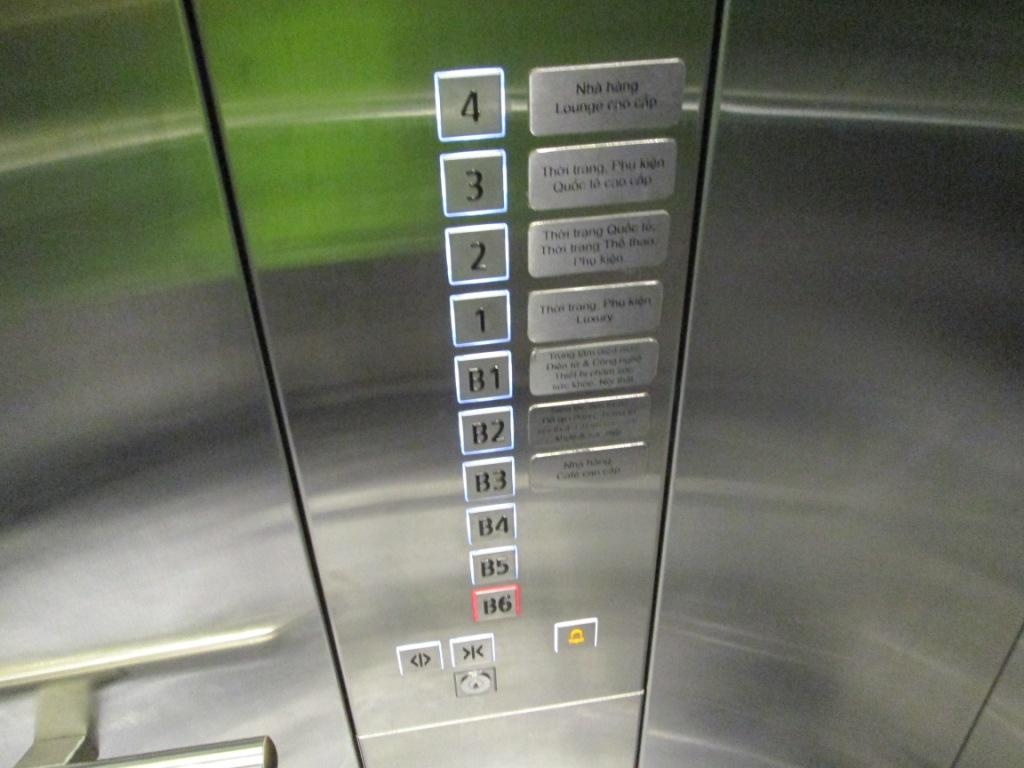1: (447, 288, 515, 350)
2: (441, 219, 513, 290)
3: (436, 147, 512, 221)
4: (431, 64, 510, 145)
B1: (451, 348, 516, 408)
B2: (454, 403, 517, 459)
B3: (458, 454, 521, 507)
B4: (463, 499, 521, 550)
B5: (467, 541, 523, 591)
B6: (471, 582, 524, 626)
alarm: (552, 614, 600, 654)
close: (448, 630, 499, 669)
keyhole: (452, 662, 498, 699)
open: (394, 638, 445, 677)
